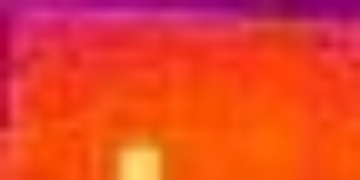Hotspot: (118, 140, 165, 180)
